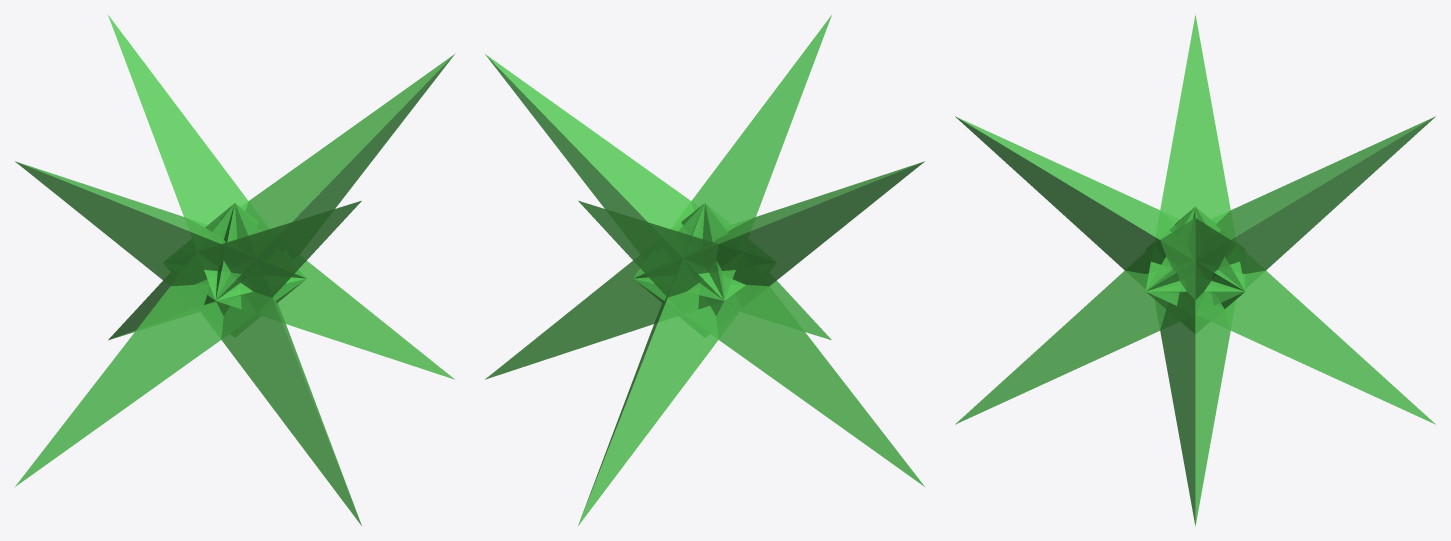
The model's file is fractalgreattriakisoctahedron0.glb.
3 views of the same model, side by side, from view 1: azimuth 30°, elevation 25°; view 2: azimuth 150°, elevation 25°; view 3: azimuth 270°, elevation 25° (orthographic). The views are drawn at different scales.
Size of the model in its own units: 10.16 by 7.18 by 10.16.
